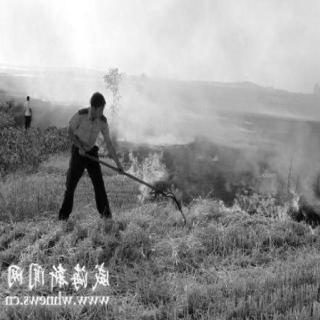Fire: (219, 180, 306, 217)
